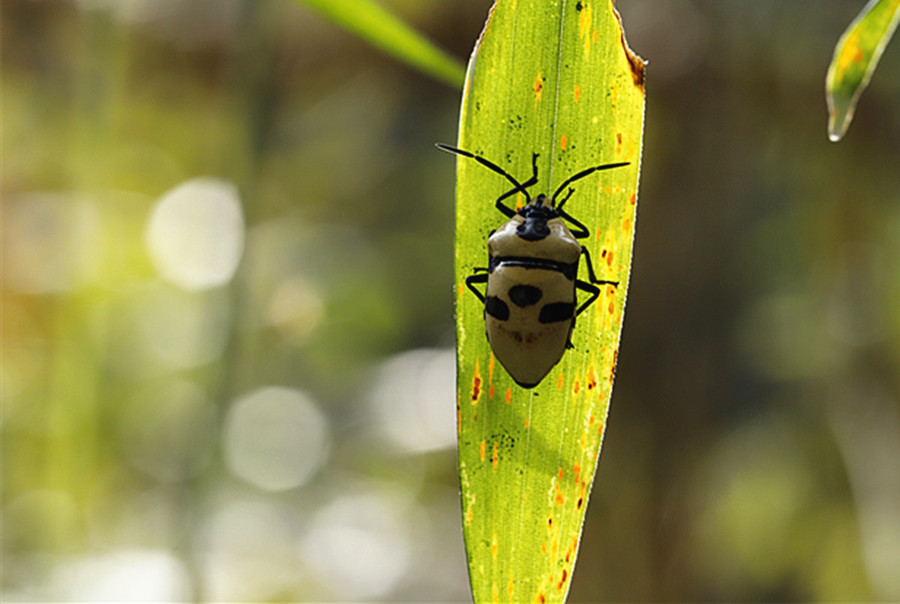chunchong: (467, 167, 603, 391)
